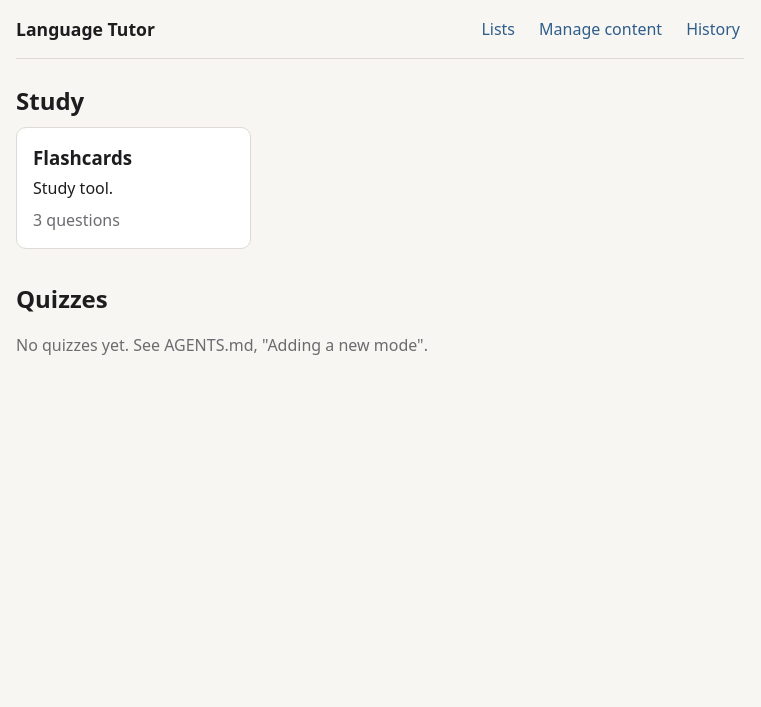
App › home → setup → flashcards → summary → home
The width and height of the screenshot is (761, 707).
Click the button "Flashcards Study tool. 3 questions".
click(133, 188)  # box [16,127,251,250]
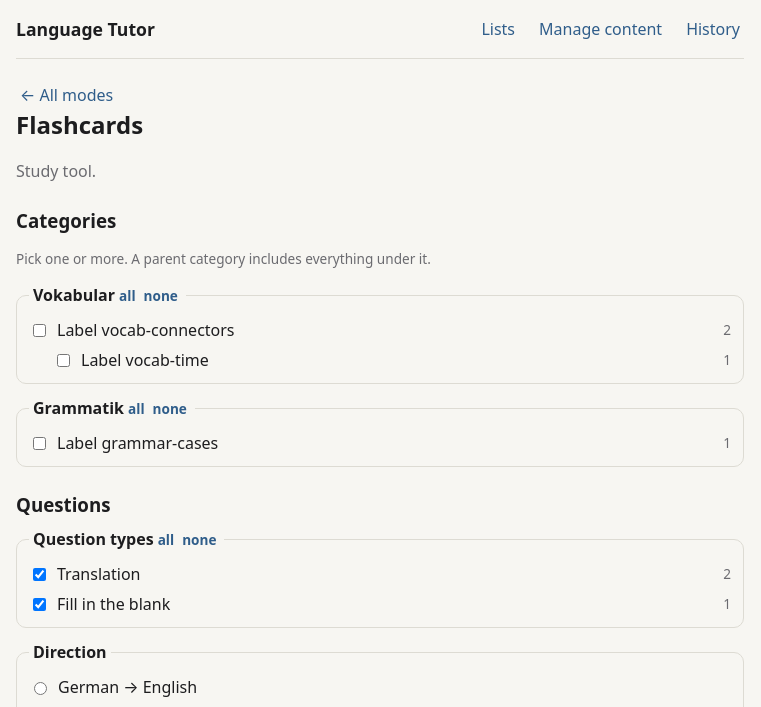
Click the checkbox labelled "Label vocab-time 1".
click(64, 360)  # box [57,354,70,366]
(page scrolled)
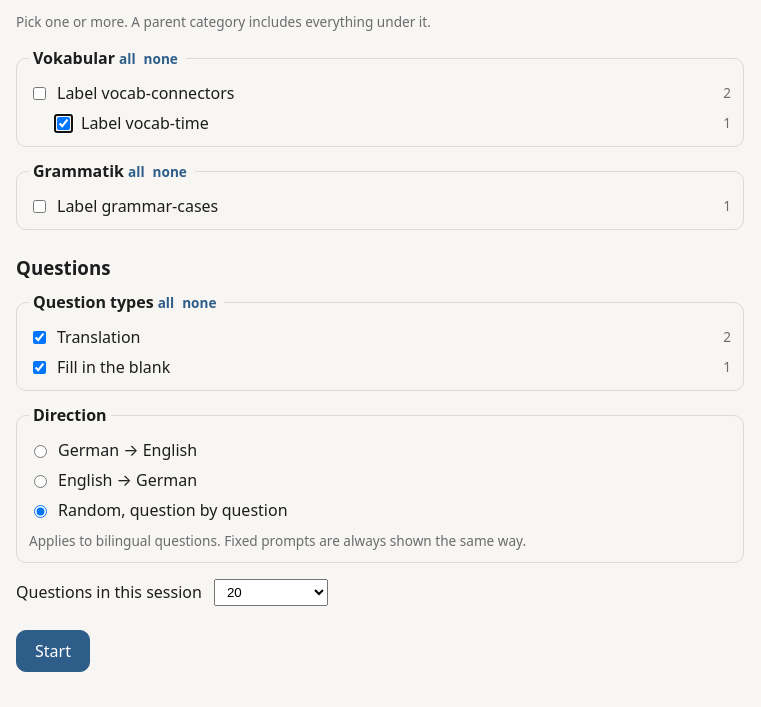
Click the button "Start".
click(53, 650)  # box [16,630,90,672]
(page scrolled)
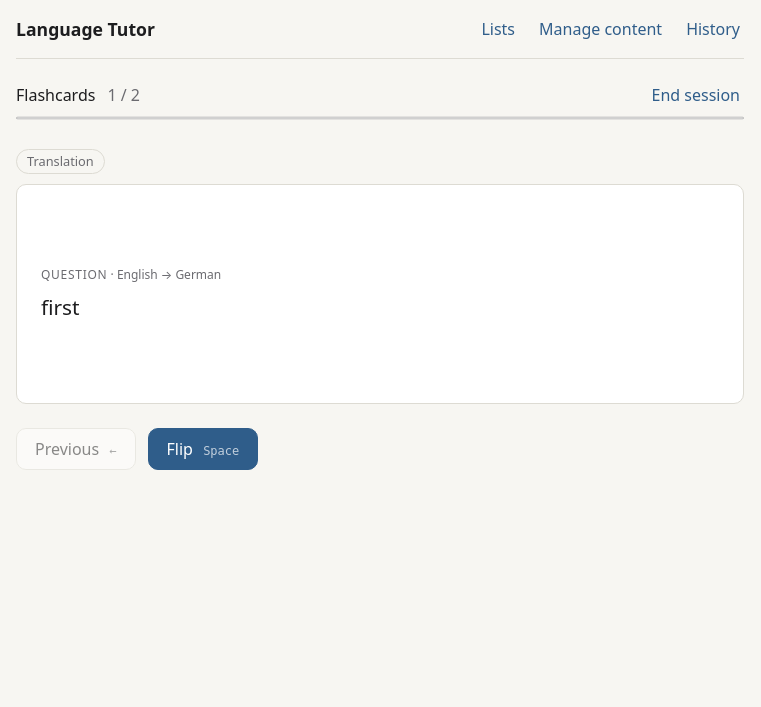
Click the button "Flip Space".
click(203, 449)  # box [148,428,258,470]
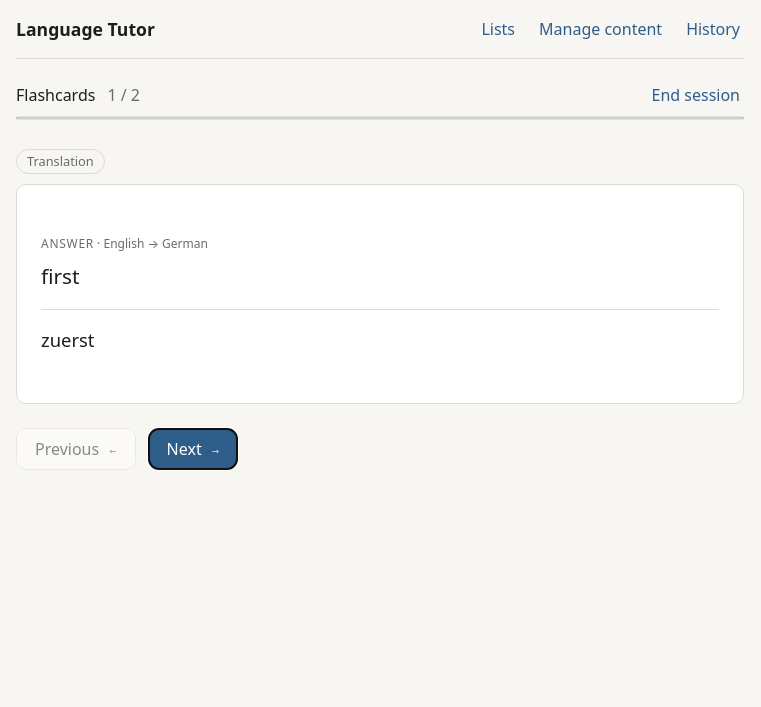
Click the button "End session".
click(696, 95)  # box [648,83,744,107]
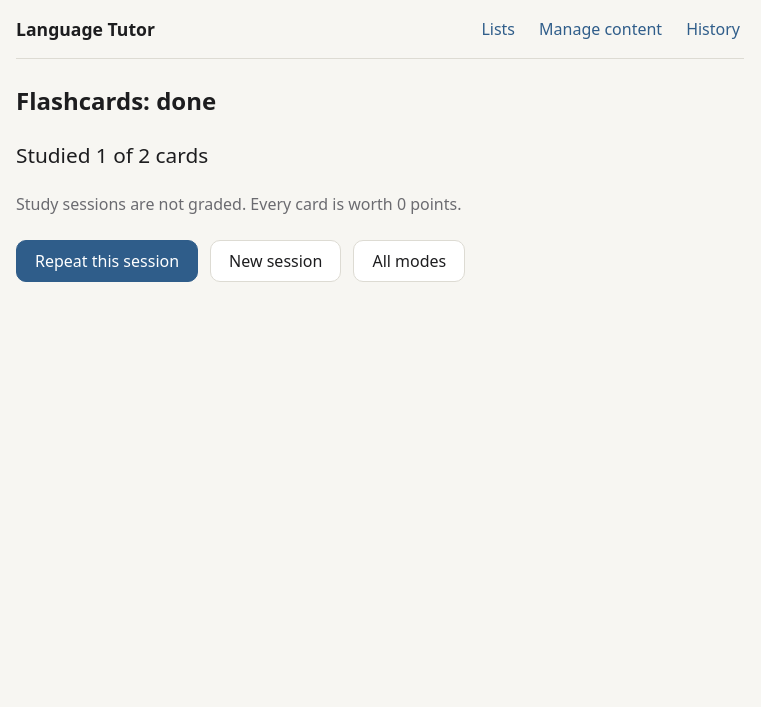
Check: the text "Studied 1 of 2 cards" is shown, box [16,141,208,169]
Click the button "All modes".
click(409, 261)  # box [353,240,465,282]
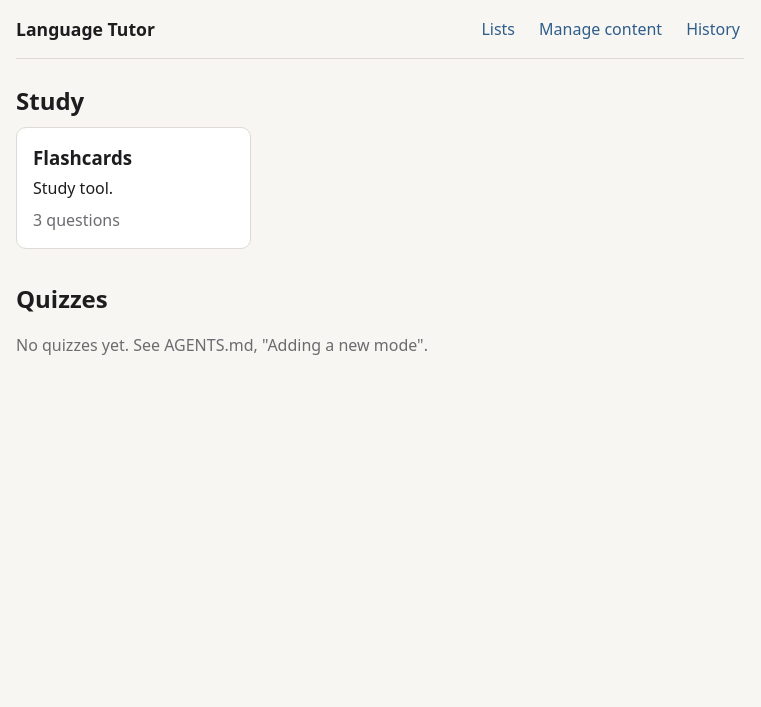
Check: the heading "Study" is shown, box [16,84,84,117]
